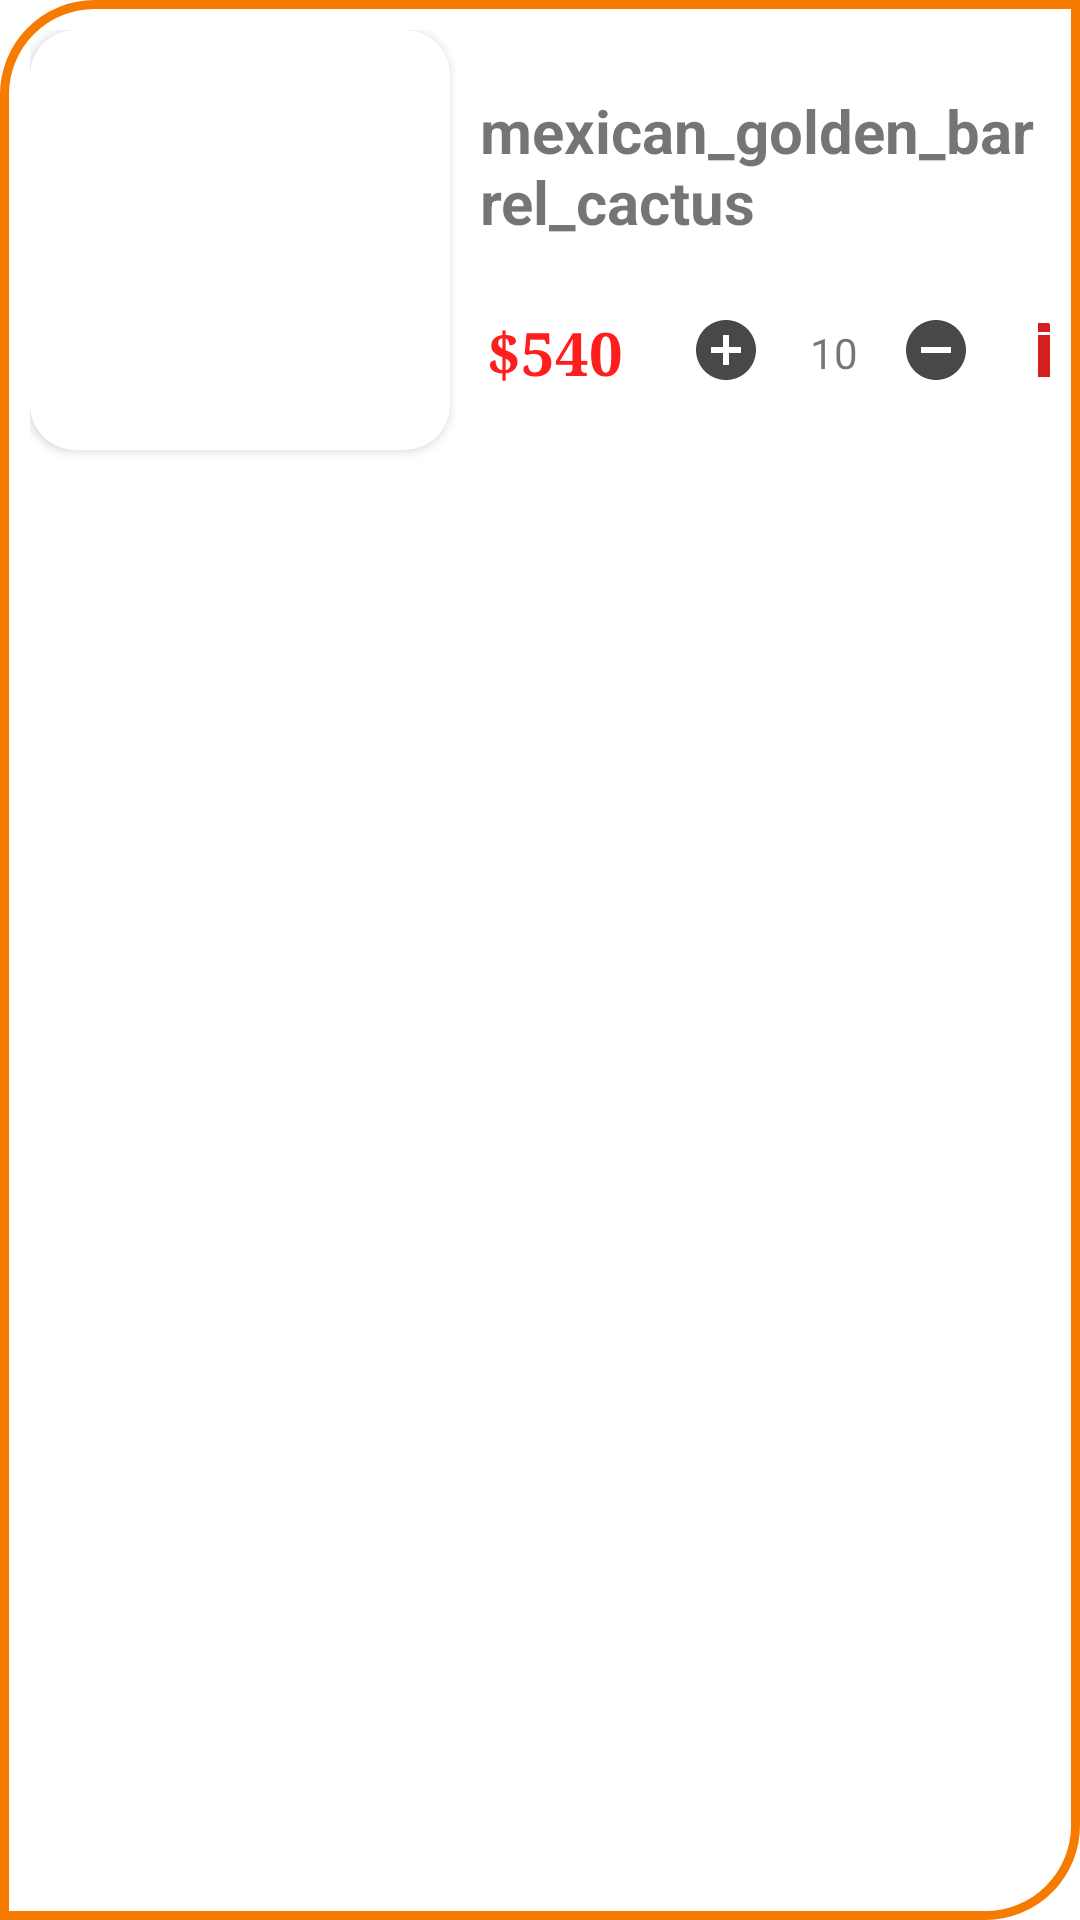

Where icons sit on this 1080w x 1920h app screen, as (x1, y1, x2, y2):
add circle: (696, 320, 756, 380)
remove circle: (906, 320, 966, 380)
